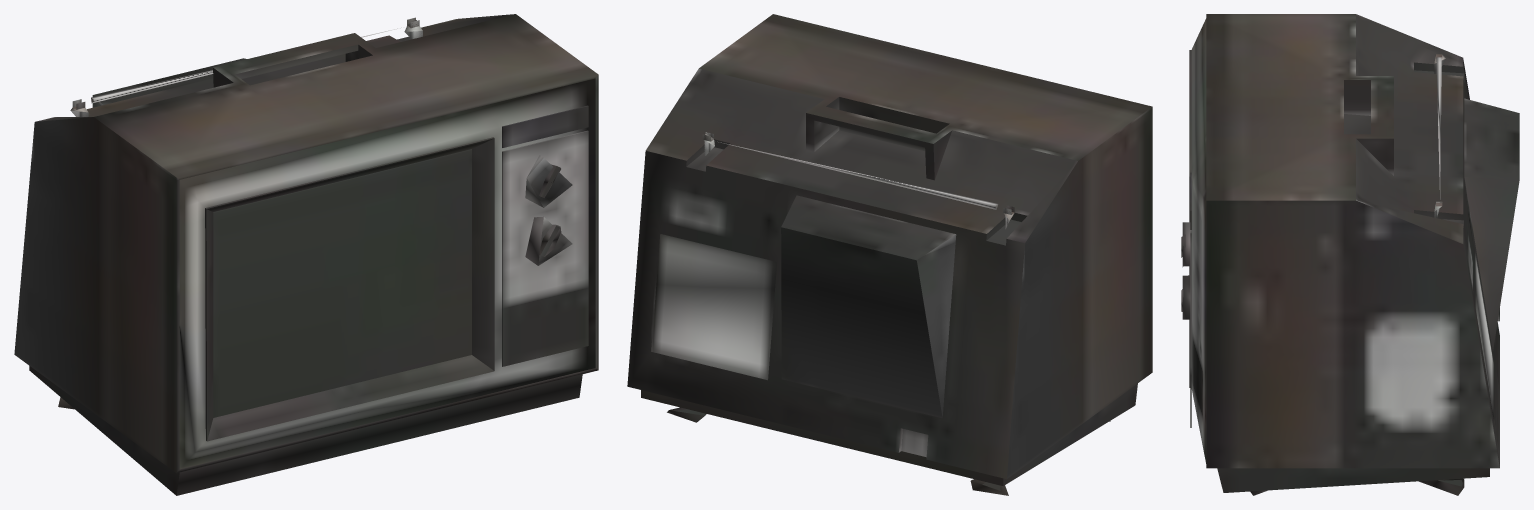
The model's file is design-television-01.glb.
3 renders of one model, left to right at view 1: azimuth 30°, elevation 25°; view 2: azimuth 150°, elevation 25°; view 3: azimuth 270°, elevation 25°, orthographic. The views are drawn at different scales.
Parts seen in each view (by area): view 1: Television_01; view 2: Television_01; view 3: Television_01.
Boxes of the visible parts, x1,y1,x2,y2 form: Television_01: (14,14,598,495); Television_01: (627,14,1152,495); Television_01: (1181,14,1519,495).
Size of the model in its own units: 0.6 by 0.4569 by 0.4602.
1 material, 1 textured.
